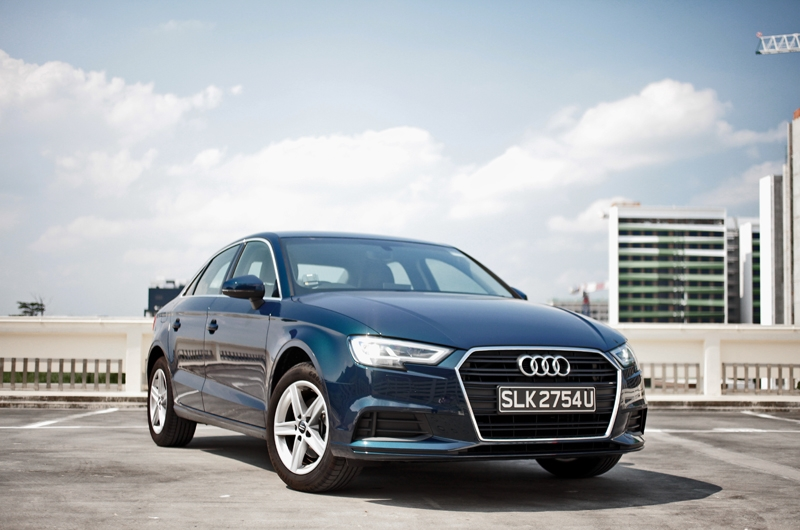audi: (506, 349, 579, 381)
